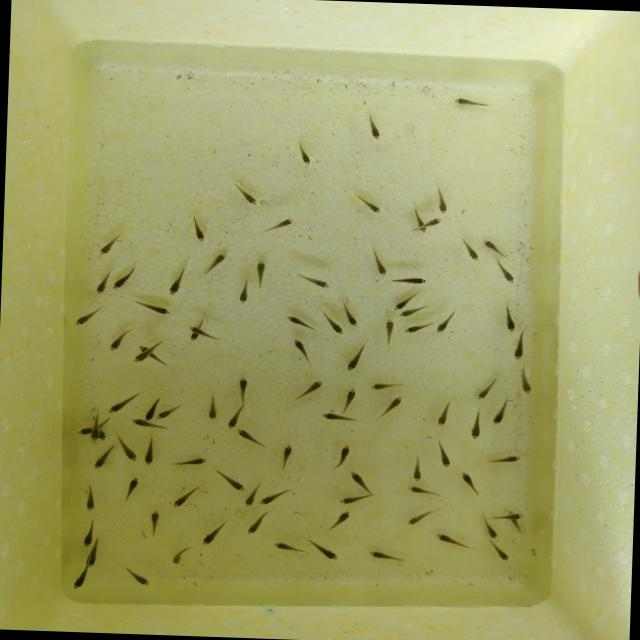fingerling: (160, 258, 193, 300), (286, 374, 326, 404), (432, 529, 477, 555), (360, 545, 410, 568), (290, 136, 323, 170), (91, 226, 125, 259), (258, 211, 298, 239), (102, 388, 144, 414), (308, 537, 346, 564), (376, 392, 410, 422), (233, 425, 273, 450), (488, 256, 522, 285), (226, 178, 261, 206), (342, 339, 370, 374), (284, 336, 316, 366), (202, 248, 232, 280), (349, 190, 383, 217), (322, 507, 356, 534), (446, 91, 494, 110), (290, 269, 333, 290), (132, 298, 177, 318), (366, 246, 394, 278), (184, 213, 212, 245), (326, 441, 354, 472), (359, 110, 386, 142), (481, 448, 524, 468), (279, 312, 316, 335), (336, 382, 364, 412), (432, 396, 456, 431), (388, 270, 434, 288), (257, 486, 294, 508), (316, 308, 344, 337), (172, 481, 200, 510), (456, 469, 484, 498), (167, 452, 212, 470), (511, 364, 536, 396), (72, 304, 104, 329), (120, 563, 152, 588), (231, 372, 255, 405), (200, 518, 228, 546), (88, 442, 115, 471), (275, 439, 298, 473), (462, 406, 484, 441), (402, 506, 437, 528), (217, 469, 249, 493), (405, 482, 445, 501), (110, 264, 135, 294), (404, 452, 428, 483), (104, 326, 131, 353), (114, 436, 140, 464), (252, 256, 273, 290), (497, 302, 520, 333), (120, 473, 143, 504), (489, 397, 511, 429), (200, 391, 222, 423), (242, 511, 268, 538), (458, 236, 483, 264), (90, 266, 113, 296), (233, 274, 253, 308), (140, 434, 160, 468), (472, 376, 498, 402), (318, 410, 360, 426), (479, 237, 508, 260), (507, 333, 530, 362), (368, 376, 407, 393), (434, 438, 456, 468), (168, 542, 194, 567), (81, 478, 99, 513), (432, 185, 452, 216), (144, 507, 164, 538), (434, 308, 456, 336), (400, 320, 436, 337), (268, 538, 306, 554), (347, 468, 372, 492), (154, 404, 186, 422), (223, 404, 246, 429), (379, 316, 398, 346), (487, 542, 515, 562), (480, 514, 500, 539), (342, 304, 362, 328), (389, 292, 414, 311), (68, 568, 88, 590), (78, 522, 94, 548), (337, 492, 366, 506), (241, 490, 259, 510), (84, 546, 99, 568), (490, 512, 524, 520), (143, 402, 157, 421), (128, 415, 146, 428), (425, 216, 444, 228), (397, 308, 414, 320), (131, 352, 147, 363), (75, 424, 89, 436), (185, 323, 203, 332), (89, 428, 100, 442), (188, 332, 200, 343), (418, 226, 428, 234)
